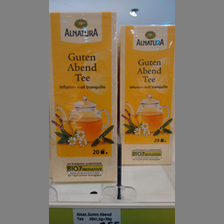tea: (50, 11, 119, 182), (119, 24, 174, 167)
